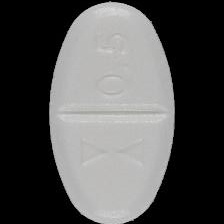69189-5420: (0, 0, 224, 224)
